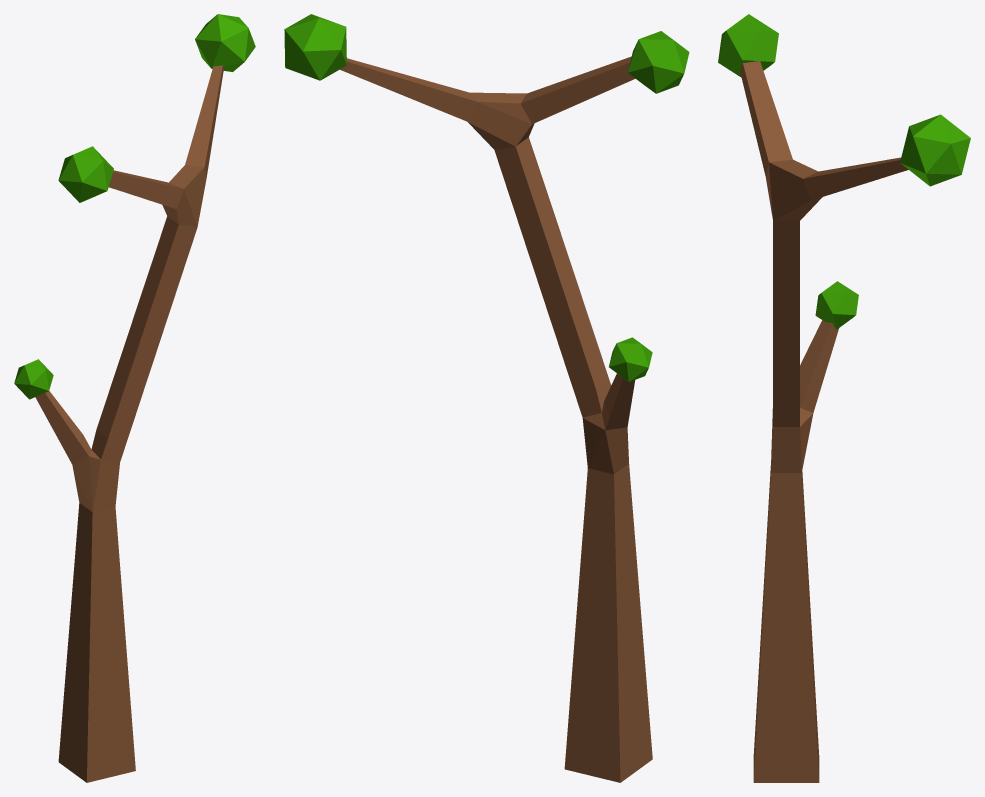
File: planted-tree-1-transformed.glb
3 renders of one model, left to right at view 1: azimuth 30°, elevation 25°; view 2: azimuth 150°, elevation 25°; view 3: azimuth 270°, elevation 25°, orthographic. The views are drawn at different scales.
Parts seen in each view (by area): view 1: Base, Leaves1, Leaves3, Leaves2; view 2: Base, Leaves1, Leaves3, Leaves2; view 3: Base, Leaves1, Leaves3, Leaves2.
Boxes of the visible parts, x1,y1,x2,y2 form: Base: [35, 65, 223, 782]; Leaves1: [195, 14, 255, 71]; Leaves3: [58, 146, 113, 202]; Leaves2: [14, 359, 53, 399]; Base: [340, 56, 652, 782]; Leaves1: [284, 14, 346, 80]; Leaves3: [628, 31, 689, 93]; Leaves2: [609, 337, 652, 381]; Base: [740, 61, 908, 782]; Leaves1: [900, 114, 970, 186]; Leaves3: [718, 14, 778, 77]; Leaves2: [815, 281, 858, 329].
Bounding box in the file's own units: 0.8847 × 2 × 0.6029.
